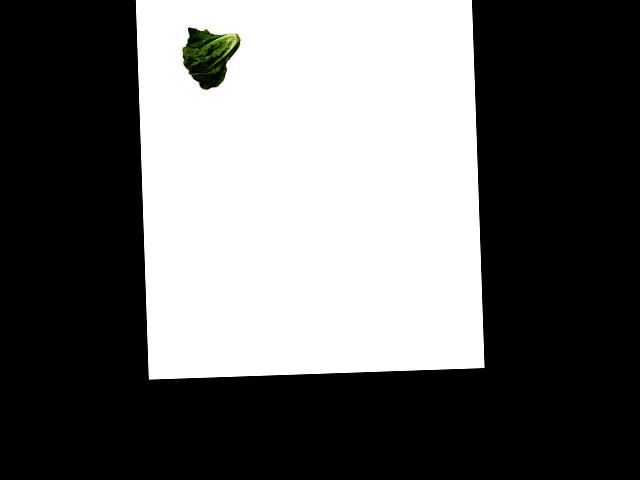lettuce: (179, 24, 245, 91)
